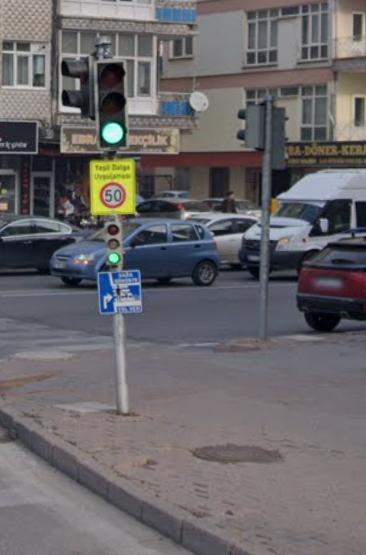greenlight: (99, 57, 129, 149)
